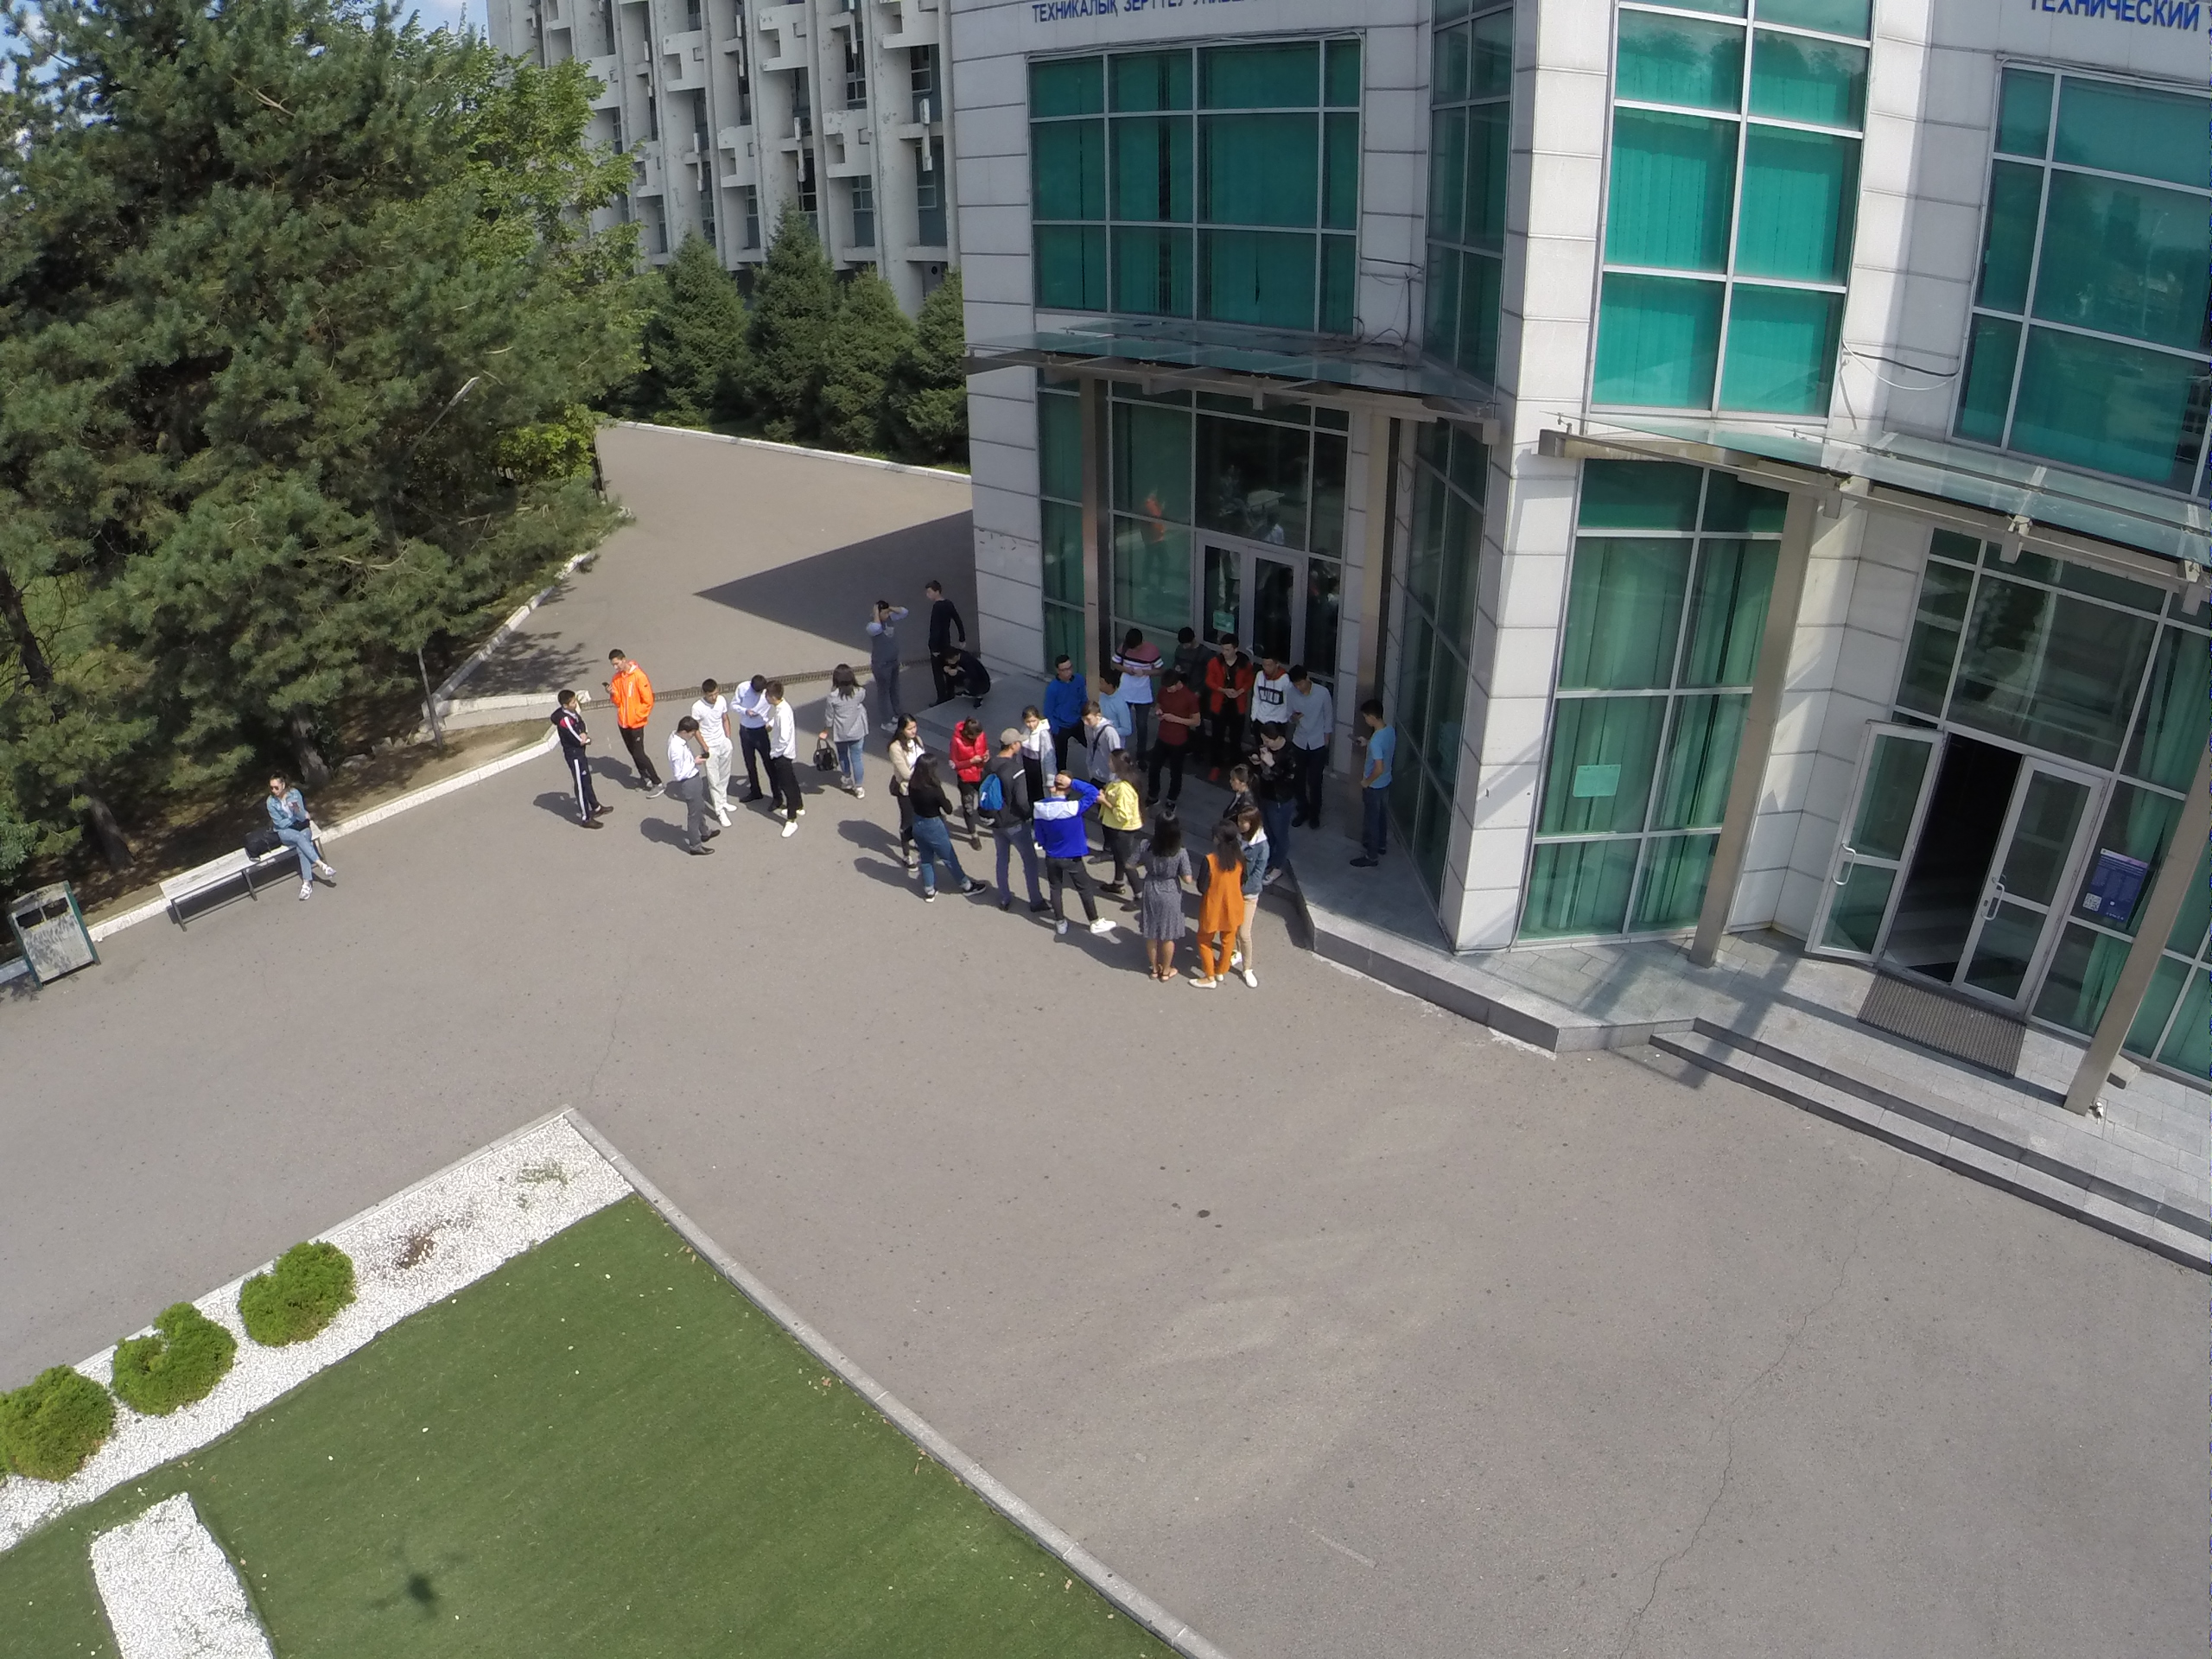person: (1033, 773, 1117, 941), (980, 728, 1042, 918), (1135, 808, 1193, 982), (262, 766, 336, 898), (1281, 662, 1338, 836), (1351, 701, 1400, 874), (608, 649, 664, 798), (1099, 747, 1147, 914), (551, 683, 605, 840), (1232, 805, 1273, 994), (818, 661, 875, 797), (661, 713, 716, 858), (691, 671, 739, 830), (1200, 630, 1247, 772), (910, 753, 952, 904), (948, 717, 993, 854), (764, 678, 801, 840), (1255, 716, 1301, 848), (1205, 819, 1239, 985), (1108, 627, 1157, 738), (862, 598, 906, 720), (734, 671, 772, 806), (1153, 668, 1192, 798), (938, 639, 995, 713), (1077, 702, 1124, 782), (1010, 702, 1054, 782), (920, 582, 948, 702), (1252, 645, 1287, 741), (891, 713, 931, 766), (1047, 653, 1077, 721), (1224, 764, 1268, 804), (1172, 626, 1202, 687), (1093, 677, 1124, 736)
